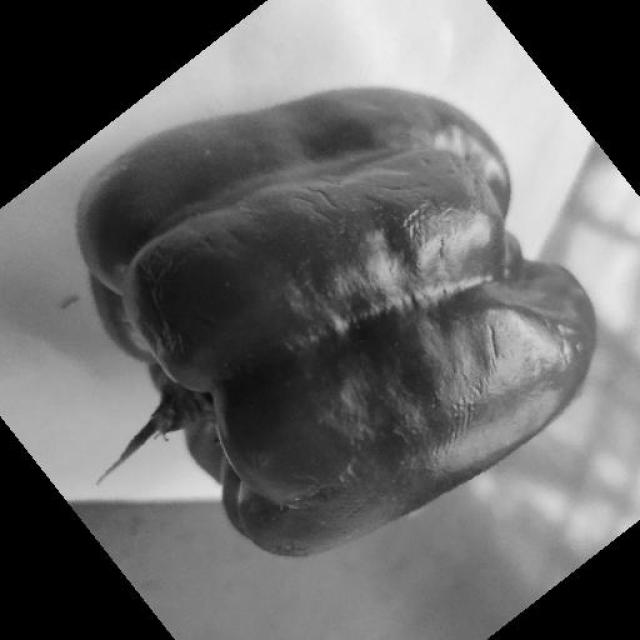Stale_Capsicum: (81, 80, 571, 500)
